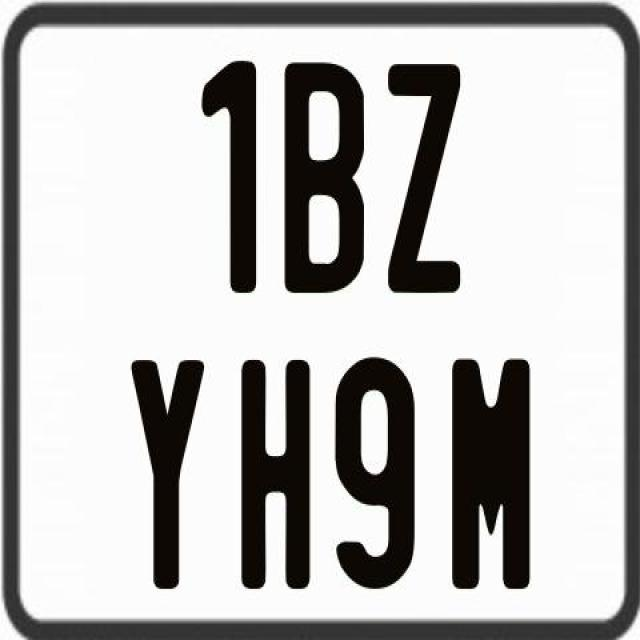1: (198, 56, 260, 290)
9: (330, 356, 414, 596)
B: (281, 63, 368, 300)
H: (241, 357, 315, 589)
M: (450, 355, 530, 587)
Y: (130, 360, 210, 592)
Z: (386, 63, 466, 294)
